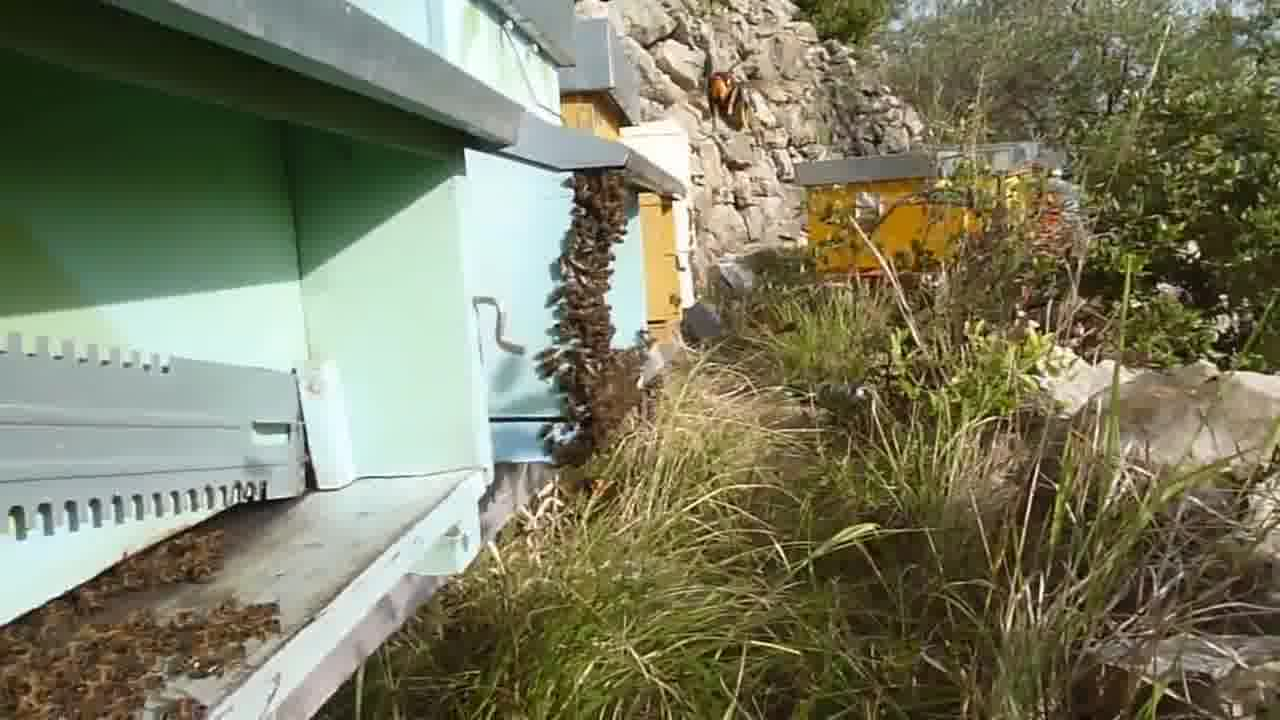bee: (3, 620, 196, 720), (552, 384, 635, 466), (120, 529, 234, 588), (544, 238, 622, 312), (558, 169, 637, 241), (547, 318, 625, 377), (207, 608, 276, 650)
hornet: (693, 60, 769, 135)
